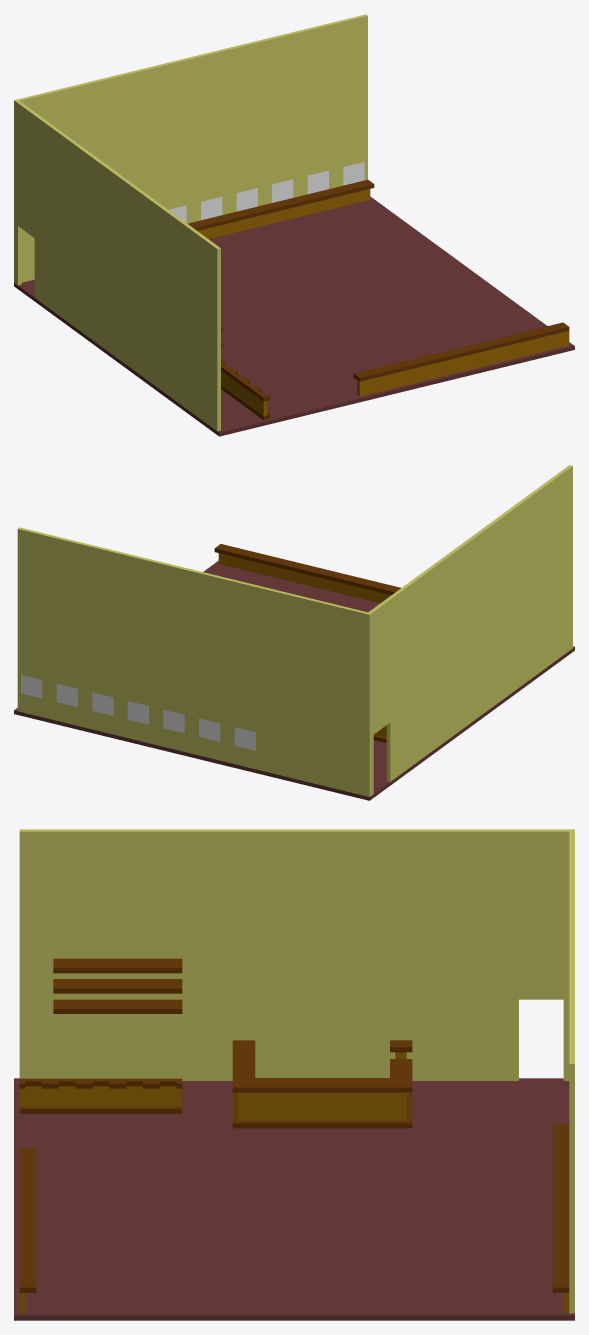
Rendered from --7-Barber Shop.obj.
3 renders of one model, top to bottom at view 1: azimuth 30°, elevation 25°; view 2: azimuth 150°, elevation 25°; view 3: azimuth 270°, elevation 25°, orthographic. The views are drawn at different scales.
Parts seen in each view (by area): view 1: Barber Shop; view 2: Barber Shop; view 3: Barber Shop.
Boxes of the visible parts, bbox=[...] form: Barber Shop: bbox=[14, 14, 574, 436]; Barber Shop: bbox=[14, 465, 574, 800]; Barber Shop: bbox=[14, 829, 574, 1320].
Size of the model in its own units: 10 by 5 by 10.
